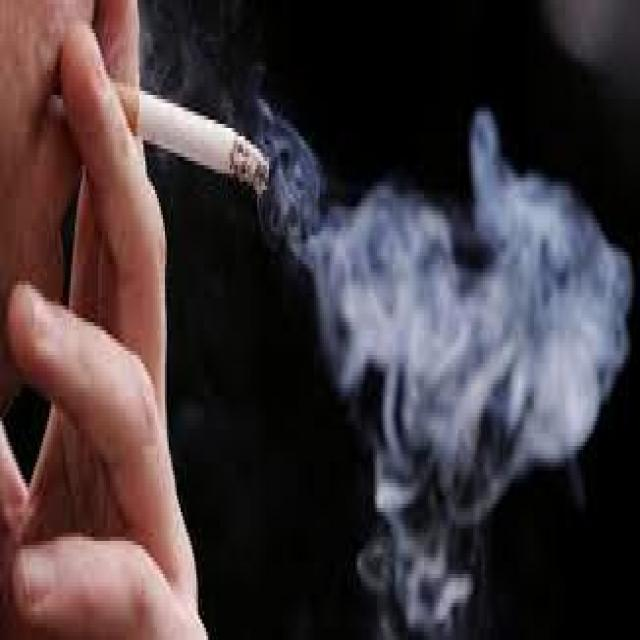cigarette: (104, 79, 273, 194)
